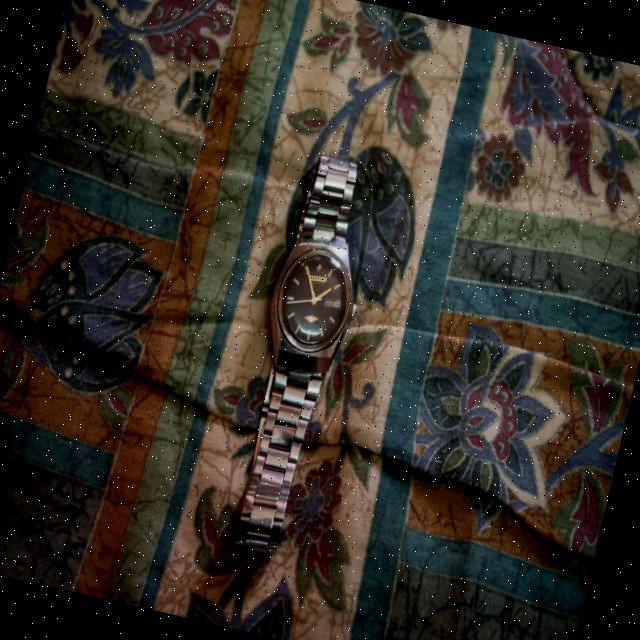Wrist watch: (214, 150, 388, 562)
